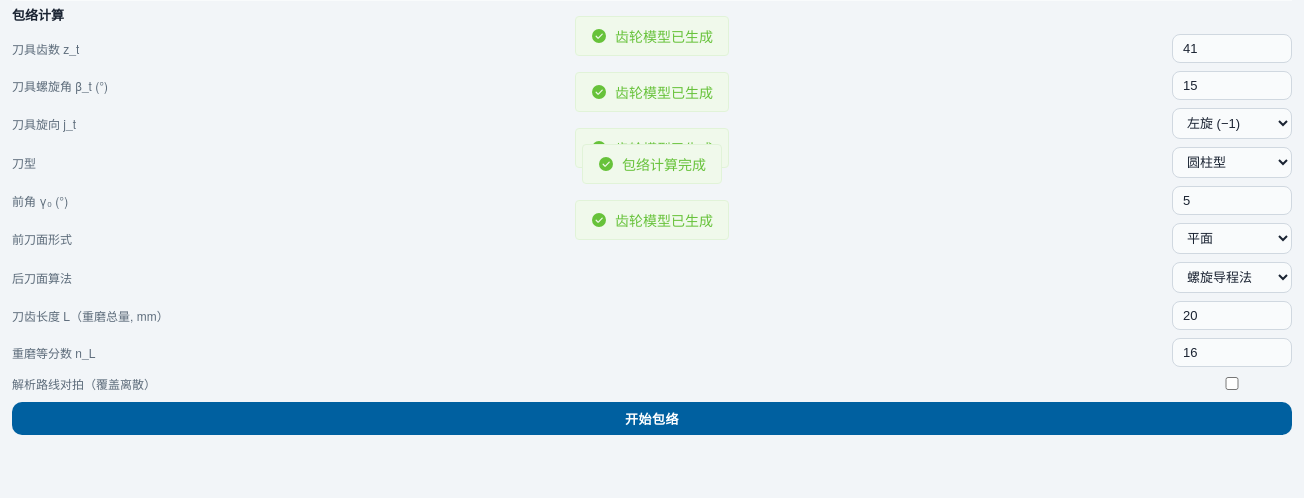
Test: WorkpieceViewer — 包络计算（子 PRD-2 离散包络） › ffα 超限时诊断条标失败态
This screenshot has width=1304, height=498.
What coordinates should you click on to do the following:
click the button with test id "run-envelope"
I would click on:
 (652, 418)
Its box is [12,402,1292,435].
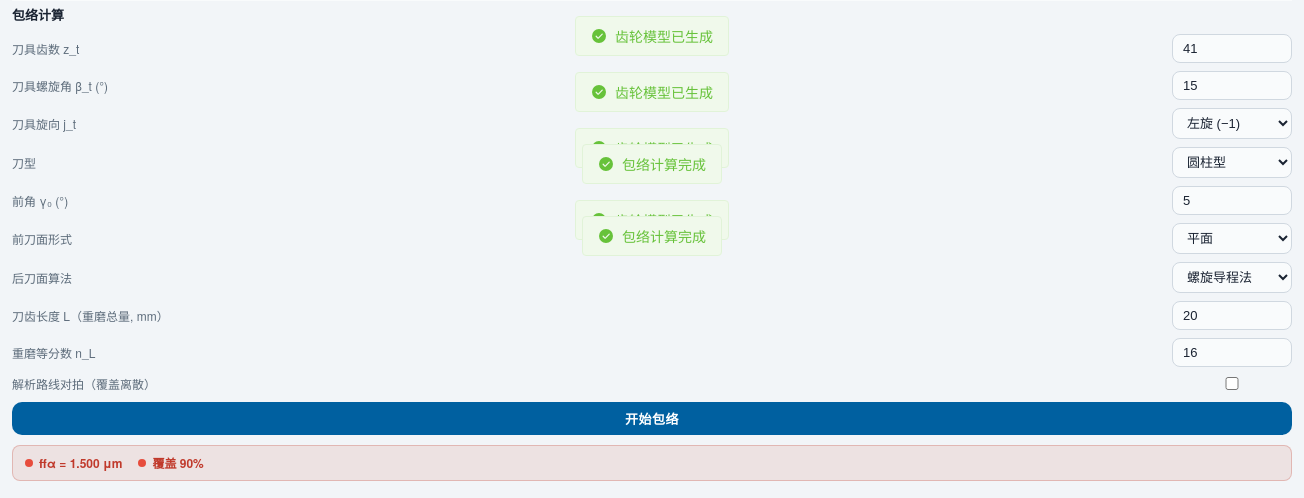
Result: the element with test id "diagnostic-strip" is shown at [12,445,1292,481]
